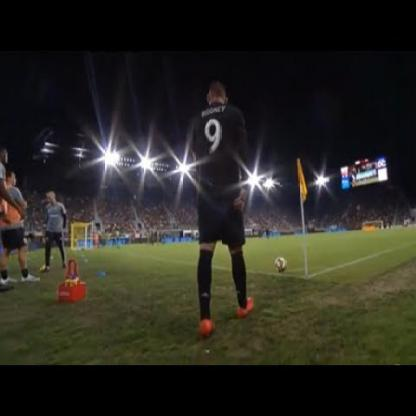corner kick: (165, 57, 366, 373)
